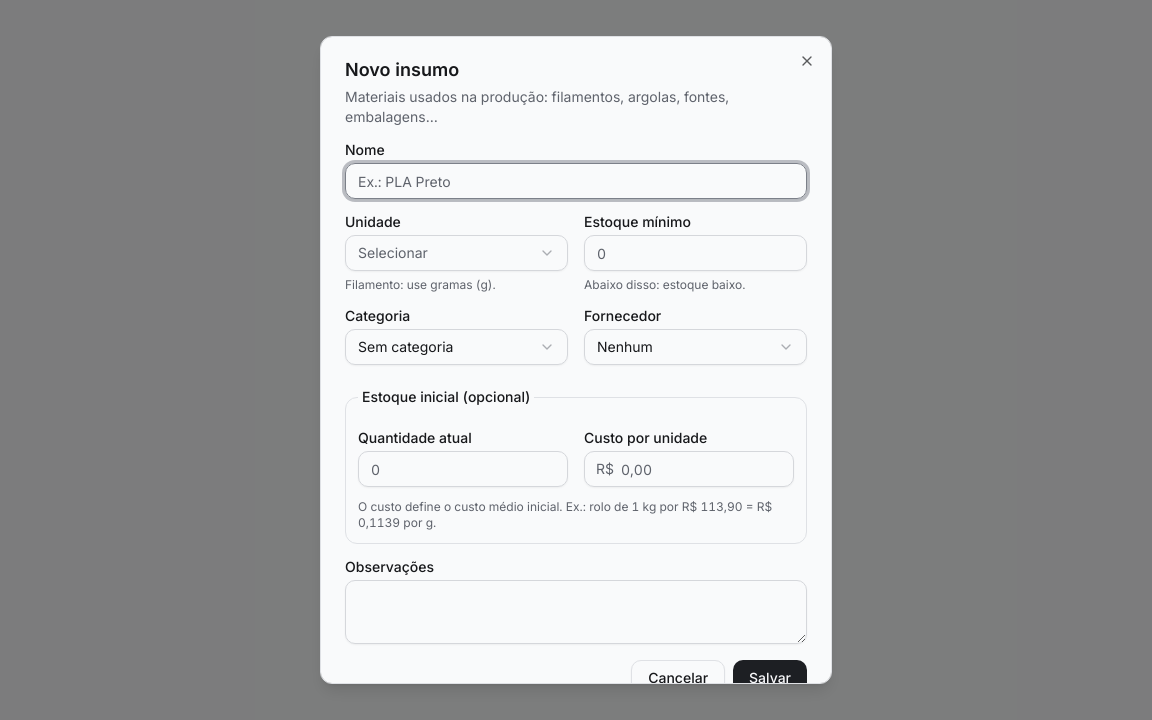
ItemFormDialog › requires name and unit
What coordinates should you click on to do the following:
click the button "Salvar"
I would click on:
 (770, 678)
Its box is [733,660,807,696].
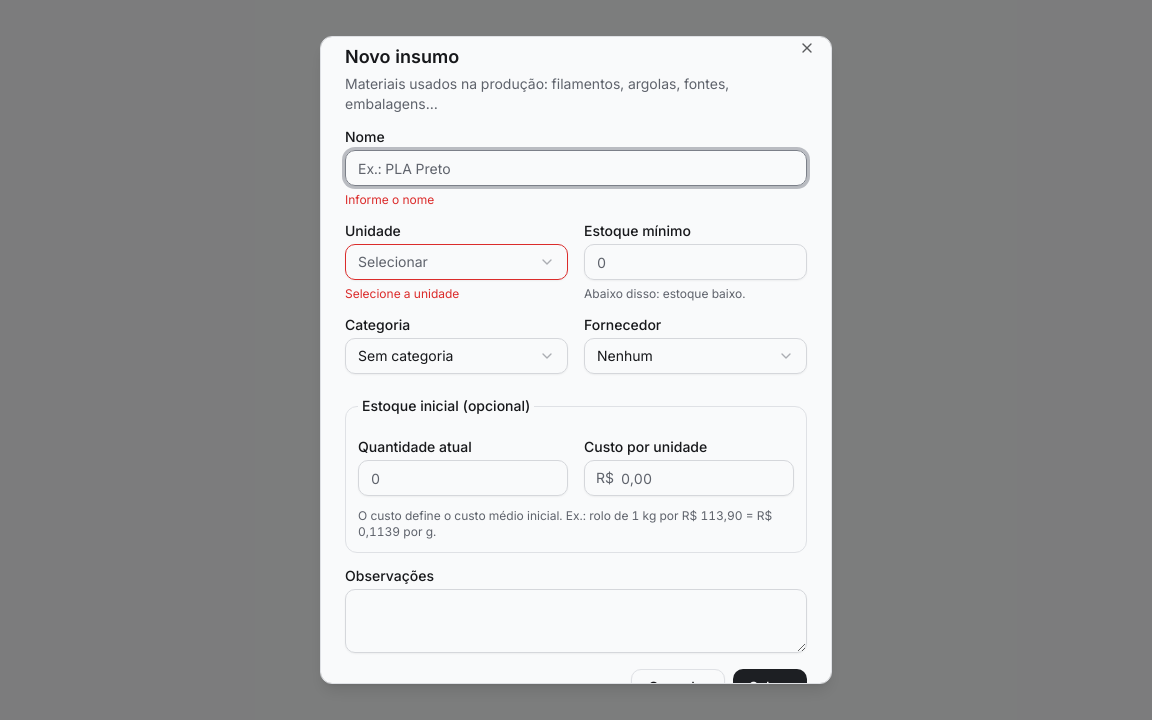
expect the text "Informe o nome" is shown: met, box [345,192,434,207]
expect the text "Selecione a unidade" is shown: met, box [345,286,459,301]
